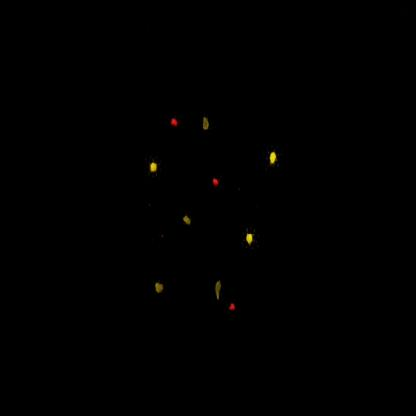PE: (242, 218, 259, 257), (146, 154, 165, 184), (266, 142, 283, 173)
PET: (207, 164, 222, 204), (165, 112, 183, 140), (228, 297, 241, 324)
PP: (150, 271, 169, 311), (210, 269, 228, 311), (196, 104, 214, 143), (180, 204, 196, 237)
